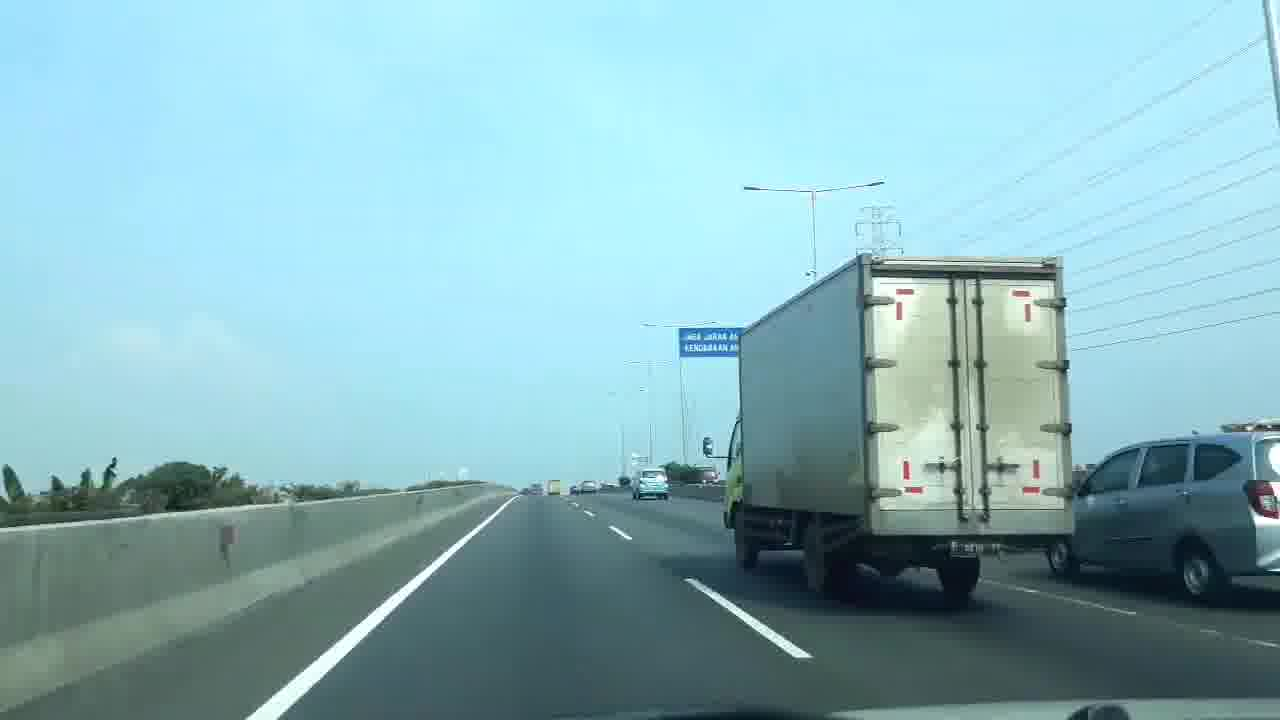plate_positive: (947, 541, 1002, 559)
